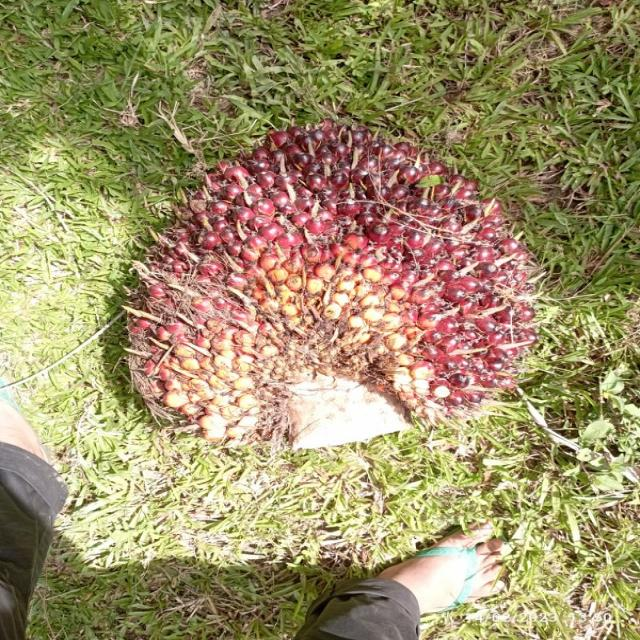fraksi 1: (2, 84, 636, 483)
